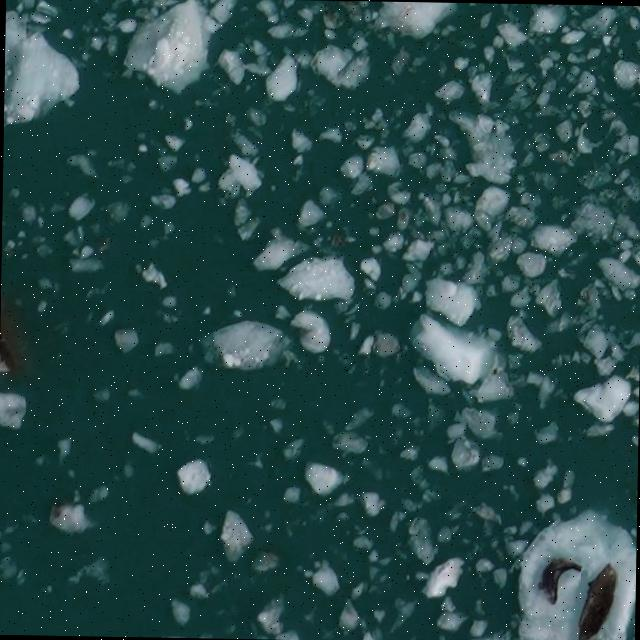seal: (576, 563, 616, 640), (540, 560, 580, 603)
